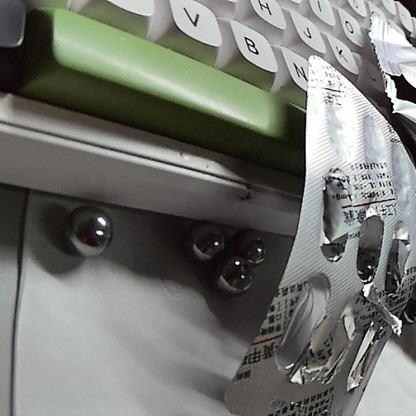ironball: (67, 190, 118, 269), (182, 218, 223, 264), (235, 228, 272, 264), (220, 259, 252, 291)
